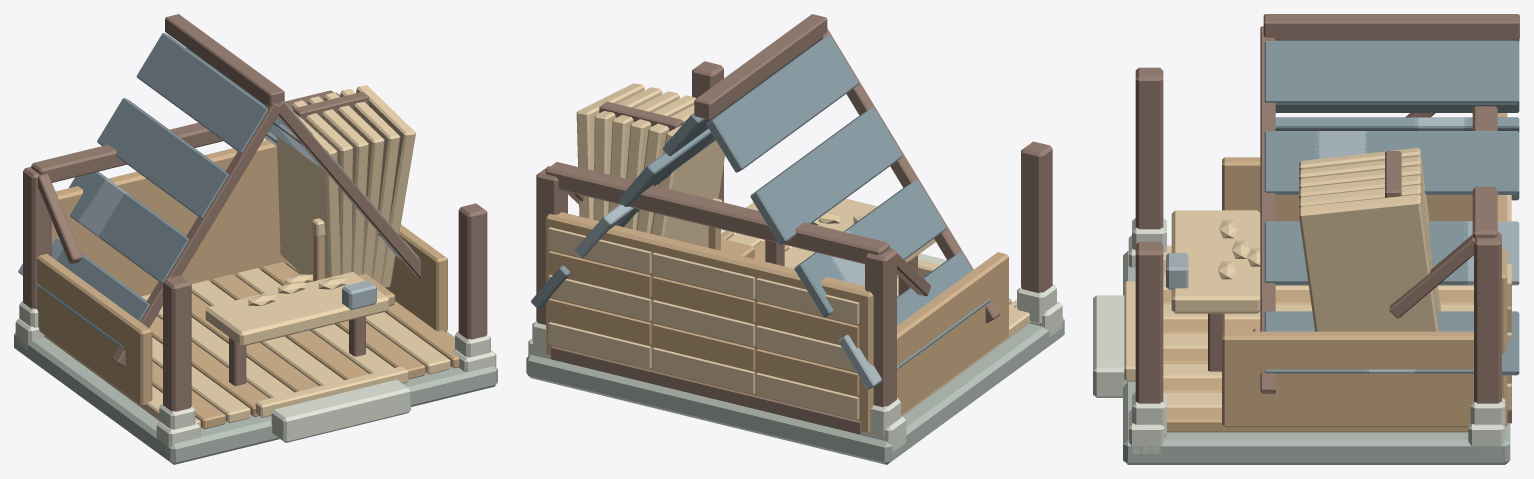
File: woodworking.fbx
3 views of the same model, side by side, from view 1: azimuth 30°, elevation 25°; view 2: azimuth 150°, elevation 25°; view 3: azimuth 270°, elevation 25° (orthographic). The views are drawn at different scales.
Visible parts, largest first — view 1: woodworking_mesh; view 2: woodworking_mesh; view 3: woodworking_mesh.
Part boxes in pixels (bbox=[...]): woodworking_mesh: bbox=[14, 14, 497, 464]; woodworking_mesh: bbox=[526, 14, 1064, 464]; woodworking_mesh: bbox=[1093, 14, 1519, 464].
Bounding box in the file's own units: 3.28 × 2.8 × 3.07.
